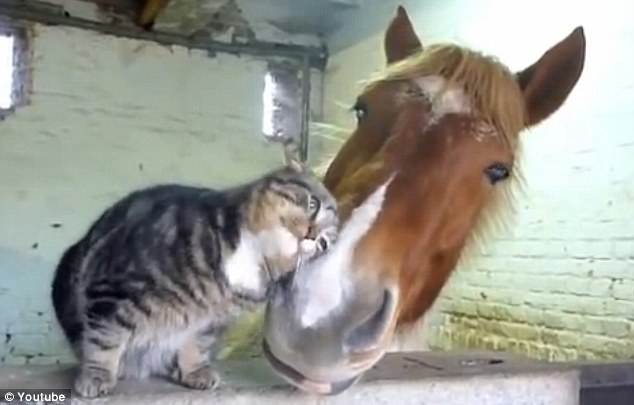Cat: (16, 145, 337, 378)
Horse: (315, 21, 557, 377)
